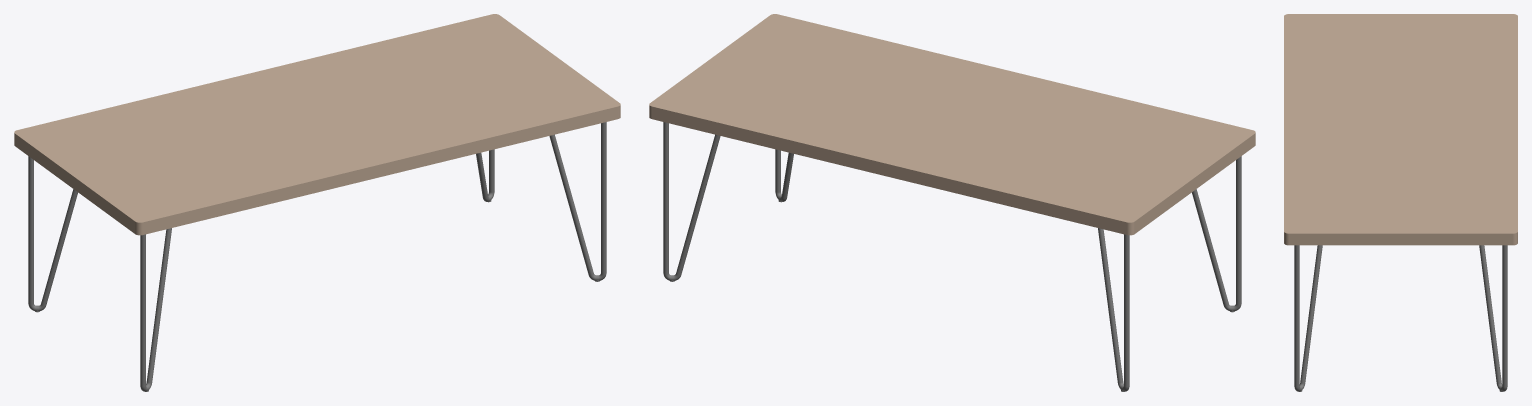
Rendered from 562_ダイニングテーブル6人掛け.glb.
The picture shows the model from 3 angles, left to right: view 1: azimuth 30°, elevation 25°; view 2: azimuth 150°, elevation 25°; view 3: azimuth 270°, elevation 25°; orthographic projection. The views are drawn at different scales.
Parts seen in each view (by area): view 1: Body; view 2: Body; view 3: Body.
Part boxes in pixels (<box>): Body: <box>14,14,620,391</box>; Body: <box>649,14,1255,391</box>; Body: <box>1284,14,1517,391</box>.
Bounding box in the file's own units: 2 × 0.7 × 0.9.
